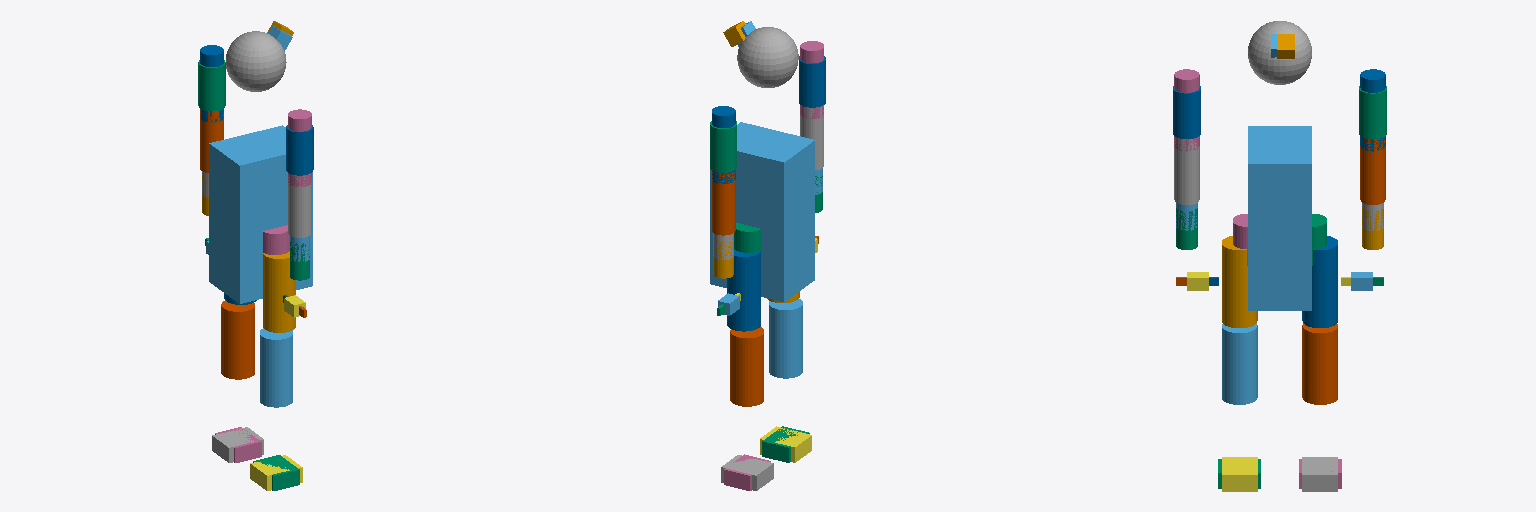
--- Render facts (derived) ---
Views: 3 orthographic renders of the robot side by side, from view 1: azimuth 30°, elevation 25°; view 2: azimuth 150°, elevation 25°; view 3: azimuth 270°, elevation 25°.
Robot: my_robot_description — 50 links, 49 joints (28 revolute, 4 prismatic, 17 fixed); root link dummy_link; default pose: every joint at zero.
Links seen in each view (by area): view 1: base_link, zhead_2_link, leg_l4_link, leg_r4_link, leg_r3_link, zarm_r4_link, zarm_l1_link, zarm_r1_link, leg_l6_link, zarm_l4_link, leg_r5_link, zarm_r3_link (+4 smaller); view 2: base_link, zhead_2_link, leg_r4_link, leg_l4_link, leg_l3_link, zarm_l4_link, zarm_l1_link, zarm_r1_link, leg_l6_link, zarm_r4_link, leg_r5_link, leg_r6_link (+4 smaller); view 3: base_link, leg_l4_link, leg_r4_link, zhead_2_link, leg_l3_link, leg_r3_link, zarm_r4_link, zarm_l4_link, zarm_l1_link, zarm_r1_link, leg_r6_link, leg_l6_link (+4 smaller).
Boxes of the visible links, left/top/right/bottom form: base_link: left=209, top=125, right=312, bottom=303; zhead_2_link: left=226, top=31, right=286, bottom=91; leg_l4_link: left=221, top=300, right=254, bottom=379; leg_r4_link: left=260, top=328, right=292, bottom=407; leg_r3_link: left=263, top=251, right=295, bottom=332; zarm_r4_link: left=288, top=174, right=311, bottom=237; zarm_l1_link: left=198, top=60, right=225, bottom=110; zarm_r1_link: left=286, top=125, right=313, bottom=175; leg_l6_link: left=212, top=427, right=263, bottom=462; zarm_l4_link: left=200, top=109, right=223, bottom=172; leg_r5_link: left=253, top=455, right=299, bottom=490; zarm_r3_link: left=288, top=109, right=311, bottom=186; base_link: left=710, top=122, right=814, bottom=302; zhead_2_link: left=737, top=27, right=798, bottom=87; leg_r4_link: left=769, top=299, right=802, bottom=378; leg_l4_link: left=730, top=327, right=763, bottom=406; leg_l3_link: left=727, top=249, right=760, bottom=331; zarm_l4_link: left=712, top=170, right=735, bottom=235; zarm_l1_link: left=710, top=121, right=736, bottom=172; zarm_r1_link: left=799, top=56, right=825, bottom=107; leg_l6_link: left=721, top=455, right=773, bottom=490; zarm_r4_link: left=800, top=105, right=823, bottom=169; leg_r5_link: left=762, top=426, right=809, bottom=462; leg_r6_link: left=760, top=426, right=811, bottom=462; base_link: left=1248, top=126, right=1311, bottom=310; leg_l4_link: left=1302, top=323, right=1337, bottom=404; leg_r4_link: left=1222, top=323, right=1257, bottom=404; zhead_2_link: left=1248, top=21, right=1311, bottom=84; leg_l3_link: left=1302, top=236, right=1337, bottom=327; leg_r3_link: left=1222, top=236, right=1257, bottom=327; zarm_r4_link: left=1174, top=137, right=1199, bottom=204; zarm_l4_link: left=1360, top=138, right=1385, bottom=204; zarm_l1_link: left=1359, top=86, right=1386, bottom=138; zarm_r1_link: left=1173, top=86, right=1200, bottom=138; leg_r6_link: left=1222, top=457, right=1257, bottom=491; leg_l6_link: left=1302, top=457, right=1337, bottom=491.
Bounding box of the posed robot: 0.25 × 0.5977 × 1.41 m (x, y, z).
Geometry: primitives only (box / cylinder / sphere), no mesh files.

The robot description file, URDF, robot "my_robot_description":
<?xml version='1.0' encoding='utf-8'?>
<robot name="my_robot_description">
  <mujoco>
    <compiler meshdir="../meshes/" balanceinertia="true" discardvisual="false" />
  </mujoco>
  <link name="dummy_link" />
  <link name="base_link">
    <inertial>
      <origin xyz="-0.00505 0.0014 0.18077" rpy="0 0 0" />
      <mass value="18.7919" />
      <inertia ixx="0.28214" ixy="3e-05" ixz="0.01114" iyy="0.20534" iyz="0.00044" izz="0.13735" />
    </inertial>
    <visual>
      <origin xyz="0 0 0" rpy="0 0 0" />
      <geometry>
                <box size="0.25 0.18 0.45" />
      </geometry>
    </visual>
  </link>
  <joint name="dummy_to_base_link" type="fixed">
    <origin xyz="0 0 0" rpy="0 0 0" />
    <parent link="dummy_link" />
    <child link="base_link" />
  </joint>
  <link name="leg_l1_link">
    <inertial>
      <origin xyz="-0.00624961 -5.6e-06 -0.00874166" rpy="0 0 0" />
      <mass value="1.79206533" />
      <inertia ixx="0.00211603" ixy="7.6e-07" ixz="0.000107" iyy="0.00302948" iyz="4.73e-06" izz="0.00399385" />
    </inertial>
    <visual>
      <origin xyz="0 0 0" rpy="0 0 0" />
      <geometry>
                <cylinder radius="0.045" length="0.12" />
      </geometry>
    </visual>
  </link>
  <joint name="leg_l1_joint" type="revolute">
    <origin xyz="-0.0025 0.087 -0.066" rpy="0 0 0" />
    <parent link="base_link" />
    <child link="leg_l1_link" />
    <axis xyz="1 0 0" />
    <limit lower="-0.314159265358979" upper="0.663225115757845" effort="180.0" velocity="23.55" />
  </joint>
  <link name="leg_l2_link">
    <inertial>
      <origin xyz="4.471e-05 0.04985881 -0.11682314" rpy="0 0 0" />
      <mass value="1.67630577" />
      <inertia ixx="0.00548763" ixy="-2.73e-06" ixz="-9.2e-07" iyy="0.0041542" iyz="0.00050833" izz="0.00426092" />
    </inertial>
    <visual>
      <origin xyz="0 0 0" rpy="0 0 0" />
      <geometry>
                <cylinder radius="0.045" length="0.12" />
      </geometry>
    </visual>
  </link>
  <joint name="leg_l2_joint" type="revolute">
    <origin xyz="0 0 0" rpy="0 0 0" />
    <parent link="leg_l1_link" />
    <child link="leg_l2_link" />
    <axis xyz="0 0 1" />
    <limit lower="-1.0471975511966" upper="0.523598775598299" effort="100.0" velocity="41.3433333333333" />
  </joint>
  <link name="leg_l3_link">
    <inertial>
      <origin xyz="-0.00238348 -0.02309435 -0.06304956" rpy="0 0 0" />
      <mass value="2.46847" />
      <inertia ixx="0.02435272" ixy="4.518e-05" ixz="0.00123822" iyy="0.02479772" iyz="0.00261624" izz="0.00478829" />
    </inertial>
    <visual>
      <origin xyz="0 0 0" rpy="0 0 0" />
      <geometry>
                <cylinder radius="0.05" length="0.24" />
      </geometry>
    </visual>
  </link>
  <joint name="leg_l3_joint" type="revolute">
    <origin xyz="0 0.02545000000000 -0.1287" rpy="0 0 0" />
    <parent link="leg_l2_link" />
    <child link="leg_l3_link" />
    <axis xyz="0 1 0" />
    <limit lower="-1.83259571459405" upper="1.0471975511966" effort="100.0" velocity="41.3433333333333" />
  </joint>
  <link name="leg_l4_link">
    <inertial>
      <origin xyz="0.00304104 -4.1e-05 -0.12213928" rpy="0 0 0" />
      <mass value="1.86452506" />
      <inertia ixx="0.01537791" ixy="7.85e-06" ixz="-0.00010781" iyy="0.01559985" iyz="-0.00015323" izz="0.00123021" />
    </inertial>
    <visual>
      <origin xyz="0 0 0" rpy="0 0 0" />
      <geometry>
                <cylinder radius="0.05" length="0.22" />
      </geometry>
    </visual>
  </link>
  <joint name="leg_l4_joint" type="revolute">
    <origin xyz="-0.010390161952608 0 -0.249783995753446" rpy="0 0 0" />
    <parent link="leg_l3_link" />
    <child link="leg_l4_link" />
    <axis xyz="0 1 0" />
    <limit lower="0.0" upper="2.18166156499291" effort="100.0" velocity="41.3433333333333" />
  </joint>
  <link name="leg_l5_link">
    <inertial>
      <origin xyz="0.0 0.0 0.0" rpy="0 0 0" />
      <mass value="0.06923929" />
      <inertia ixx="6.66e-06" ixy="0.0" ixz="0.0" iyy="6.66e-06" iyz="0.0" izz="1.172e-05" />
    </inertial>
    <visual>
      <origin xyz="0 0 0" rpy="0 0 0" />
      <geometry>
                <box size="0.09 0.12 0.05" />
      </geometry>
    </visual>
  </link>
  <joint name="leg_l5_joint" type="revolute">
    <origin xyz="0 0 -0.346000000000004" rpy="0 0 0" />
    <parent link="leg_l4_link" />
    <child link="leg_l5_link" />
    <axis xyz="0 1 0" />
    <limit lower="-0.610865238198015" upper="0.523598775598299" effort="36.0" velocity="23.0266666666667" />
  </joint>
  <link name="leg_l6_link">
    <inertial>
      <origin xyz="-0.00987056 -7.58e-06 -0.03365514" rpy="0 0 0" />
      <mass value="0.58358325" />
      <inertia ixx="0.0006342" ixy="1.4e-07" ixz="0.00031564" iyy="0.00227317" iyz="-2e-08" izz="0.00239382" />
    </inertial>
    <visual>
      <origin xyz="0 0 0" rpy="0 0 0" />
      <geometry>
                <box size="0.12 0.1 0.05" />
      </geometry>
    </visual>
  </link>
  <joint name="leg_l6_joint" type="revolute">
    <origin xyz="0 0 0" rpy="0 0 0" />
    <parent link="leg_l5_link" />
    <child link="leg_l6_link" />
    <axis xyz="1 0 0" />
    <limit lower="-0.349065850398866" upper="0.349065850398866" effort="36.0" velocity="23.0266666666667" />
  </joint>
  <link name="ll_foot_toe">
    <collision>
      <origin rpy="0 0 0" xyz="0 0 0" />
      <geometry>
        <sphere radius="0.005" />
      </geometry>
    </collision>
  </link>
  <joint name="ll_foot_toe_joint" type="fixed">
    <origin xyz="0.142507 0.04773 -0.0595" rpy="0 0 0" />
    <parent link="leg_l6_link" />
    <child link="ll_foot_toe" />
  </joint>
  <link name="ll_foot_heel">
    <collision>
      <origin rpy="0 0 0" xyz="0 0 0" />
      <geometry>
        <sphere radius="0.005" />
      </geometry>
    </collision>
  </link>
  <joint name="ll_foot_heel_joint" type="fixed">
    <origin xyz="-0.10149 0.04773 -0.0595" rpy="0 0 0" />
    <parent link="leg_l6_link" />
    <child link="ll_foot_heel" />
  </joint>
  <link name="lr_foot_toe">
    <collision>
      <origin rpy="0 0 0" xyz="0 0 0" />
      <geometry>
        <sphere radius="0.005" />
      </geometry>
    </collision>
  </link>
  <joint name="lr_foot_toe_joint" type="fixed">
    <origin xyz="0.142507 -0.04773 -0.0595" rpy="0 0 0" />
    <parent link="leg_l6_link" />
    <child link="lr_foot_toe" />
  </joint>
  <link name="lr_foot_heel">
    <collision>
      <origin rpy="0 0 0" xyz="0 0 0" />
      <geometry>
        <sphere radius="0.005" />
      </geometry>
    </collision>
  </link>
  <joint name="lr_foot_heel_joint" type="fixed">
    <origin xyz="-0.10149 -0.04773 -0.0595" rpy="0 0 0" />
    <parent link="leg_l6_link" />
    <child link="lr_foot_heel" />
  </joint>
  <link name="l_foot_toe">
    <collision>
      <origin rpy="0 0 0" xyz="0 0 0" />
      <geometry>
        <sphere radius="0.005" />
      </geometry>
    </collision>
  </link>
  <joint name="l_foot_toe_joint" type="fixed">
    <origin xyz="0.142507 0.0 -0.0595" rpy="0 0 0" />
    <parent link="leg_l6_link" />
    <child link="l_foot_toe" />
  </joint>
  <link name="l_foot_heel">
    <collision>
      <origin rpy="0 0 0" xyz="0 0 0" />
      <geometry>
        <sphere radius="0.005" />
      </geometry>
    </collision>
  </link>
  <joint name="l_foot_heel_joint" type="fixed">
    <origin xyz="-0.10149 0.0 -0.0595" rpy="0 0 0" />
    <parent link="leg_l6_link" />
    <child link="l_foot_heel" />
  </joint>
  <link name="leg_r1_link">
    <inertial>
      <origin xyz="-0.00624961 5.65e-06 -0.00874165" rpy="0 0 0" />
      <mass value="1.79206572" />
      <inertia ixx="0.00211603" ixy="-7.6e-07" ixz="0.000107" iyy="0.00302948" iyz="-4.73e-06" izz="0.00399385" />
    </inertial>
    <visual>
      <origin xyz="0 0 0" rpy="0 0 0" />
      <geometry>
                <cylinder radius="0.045" length="0.12" />
      </geometry>
    </visual>
  </link>
  <joint name="leg_r1_joint" type="revolute">
    <origin xyz="-0.0025 -0.087 -0.066" rpy="0 0 0" />
    <parent link="base_link" />
    <child link="leg_r1_link" />
    <axis xyz="1 0 0" />
    <limit lower="-0.663225115757845" upper="0.314159265358979" effort="180.0" velocity="23.55" />
  </joint>
  <link name="leg_r2_link">
    <inertial>
      <origin xyz="4.471e-05 -0.04985878 -0.11682313" rpy="0 0 0" />
      <mass value="1.67630636" />
      <inertia ixx="0.00548764" ixy="2.73e-06" ixz="-9.2e-07" iyy="0.00415421" iyz="-0.00050832" izz="0.00426093" />
    </inertial>
    <visual>
      <origin xyz="0 0 0" rpy="0 0 0" />
      <geometry>
                <cylinder radius="0.045" length="0.12" />
      </geometry>
    </visual>
  </link>
  <joint name="leg_r2_joint" type="revolute">
    <origin xyz="0 0 0" rpy="0 0 0" />
    <parent link="leg_r1_link" />
    <child link="leg_r2_link" />
    <axis xyz="0 0 1" />
    <limit lower="-0.523598775598299" upper="1.0471975511966" effort="100.0" velocity="41.3433333333333" />
  </joint>
  <link name="leg_r3_link">
    <inertial>
      <origin xyz="-0.00238153 0.02309009 -0.06305853" rpy="0 0 0" />
      <mass value="2.46916674" />
      <inertia ixx="0.02435155" ixy="-4.518e-05" ixz="0.00123747" iyy="0.02479853" iyz="-0.00261573" izz="0.0047908" />
    </inertial>
    <visual>
      <origin xyz="0 0 0" rpy="0 0 0" />
      <geometry>
                <cylinder radius="0.05" length="0.24" />
      </geometry>
    </visual>
  </link>
  <joint name="leg_r3_joint" type="revolute">
    <origin xyz="0 -0.02545000000000 -0.1287" rpy="0 0 0" />
    <parent link="leg_r2_link" />
    <child link="leg_r3_link" />
    <axis xyz="0 1 0" />
    <limit lower="-1.83259571459405" upper="1.0471975511966" effort="100.0" velocity="41.3433333333333" />
  </joint>
  <link name="leg_r4_link">
    <inertial>
      <origin xyz="0.00304109 4.102e-05 -0.12213983" rpy="0 0 0" />
      <mass value="1.86454133" />
      <inertia ixx="0.01537809" ixy="-7.85e-06" ixz="-0.00010779" iyy="0.01560001" iyz="0.00015322" izz="0.00123022" />
    </inertial>
    <visual>
      <origin xyz="0 0 0" rpy="0 0 0" />
      <geometry>
                <cylinder radius="0.05" length="0.22" />
      </geometry>
    </visual>
  </link>
  <joint name="leg_r4_joint" type="revolute">
    <origin xyz="-0.0103901619526017 0 -0.249783995753447" rpy="0 0 0" />
    <parent link="leg_r3_link" />
    <child link="leg_r4_link" />
    <axis xyz="0 1 0" />
    <limit lower="0.0" upper="2.18166156499291" effort="100.0" velocity="41.3433333333333" />
  </joint>
  <link name="leg_r5_link">
    <inertial>
      <origin xyz="0.0 0.0 0.0" rpy="0 0 0" />
      <mass value="0.06923929" />
      <inertia ixx="6.66e-06" ixy="0.0" ixz="0.0" iyy="6.66e-06" iyz="0.0" izz="1.172e-05" />
    </inertial>
    <visual>
      <origin xyz="0 0 0" rpy="0 0 0" />
      <geometry>
                <box size="0.09 0.12 0.05" />
      </geometry>
    </visual>
  </link>
  <joint name="leg_r5_joint" type="revolute">
    <origin xyz="0 0 -0.346000000000011" rpy="0 0 0" />
    <parent link="leg_r4_link" />
    <child link="leg_r5_link" />
    <axis xyz="0 1 0" />
    <limit lower="-0.523598775598299" upper="0.523598775598299" effort="36.0" velocity="23.0266666666667" />
  </joint>
  <link name="leg_r6_link">
    <inertial>
      <origin xyz="-0.00987049 7.65e-06 -0.03365512" rpy="0 0 0" />
      <mass value="0.58358273" />
      <inertia ixx="0.0006342" ixy="-1.4e-07" ixz="0.00031564" iyy="0.00227317" iyz="2e-08" izz="0.00239382" />
    </inertial>
    <visual>
      <origin xyz="0 0 0" rpy="0 0 0" />
      <geometry>
                <box size="0.12 0.1 0.05" />
      </geometry>
    </visual>
  </link>
  <joint name="leg_r6_joint" type="revolute">
    <origin xyz="0 0 0" rpy="0 0 0" />
    <parent link="leg_r5_link" />
    <child link="leg_r6_link" />
    <axis xyz="1 0 0" />
    <limit lower="-0.349065850398866" upper="0.349065850398866" effort="36.0" velocity="23.0266666666667" />
  </joint>
  <link name="rl_foot_toe">
    <collision>
      <origin rpy="0 0 0" xyz="0 0 0" />
      <geometry>
        <sphere radius="0.005" />
      </geometry>
    </collision>
  </link>
  <joint name="rl_foot_toe_joint" type="fixed">
    <origin xyz="0.142507 0.04773 -0.0595" rpy="0 0 0" />
    <parent link="leg_r6_link" />
    <child link="rl_foot_toe" />
  </joint>
  <link name="rl_foot_heel">
    <collision>
      <origin rpy="0 0 0" xyz="0 0 0" />
      <geometry>
        <sphere radius="0.005" />
      </geometry>
    </collision>
  </link>
  <joint name="rl_foot_heel_joint" type="fixed">
    <origin xyz="-0.10149 0.04773 -0.0595" rpy="0 0 0" />
    <parent link="leg_r6_link" />
    <child link="rl_foot_heel" />
  </joint>
  <link name="rr_foot_toe">
    <collision>
      <origin rpy="0 0 0" xyz="0 0 0" />
      <geometry>
        <sphere radius="0.005" />
      </geometry>
    </collision>
  </link>
  <joint name="rr_foot_toe_joint" type="fixed">
    <origin xyz="0.142507 -0.04773 -0.0595" rpy="0 0 0" />
    <parent link="leg_r6_link" />
    <child link="rr_foot_toe" />
  </joint>
  <link name="rr_foot_heel">
    <collision>
      <origin rpy="0 0 0" xyz="0 0 0" />
      <geometry>
        <sphere radius="0.005" />
      </geometry>
    </collision>
  </link>
  <joint name="rr_foot_heel_joint" type="fixed">
    <origin xyz="-0.10149 -0.04773 -0.0595" rpy="0 0 0" />
    <parent link="leg_r6_link" />
    <child link="rr_foot_heel" />
  </joint>
  <link name="r_foot_toe">
    <collision>
      <origin rpy="0 0 0" xyz="0 0 0" />
      <geometry>
        <sphere radius="0.005" />
      </geometry>
    </collision>
  </link>
  <joint name="r_foot_toe_joint" type="fixed">
    <origin xyz="0.142507 0.0 -0.0595" rpy="0 0 0" />
    <parent link="leg_r6_link" />
    <child link="r_foot_toe" />
  </joint>
  <link name="r_foot_heel">
    <collision>
      <origin rpy="0 0 0" xyz="0 0 0" />
      <geometry>
        <sphere radius="0.005" />
      </geometry>
    </collision>
  </link>
  <joint name="r_foot_heel_joint" type="fixed">
    <origin xyz="-0.10149 0.0 -0.0595" rpy="0 0 0" />
    <parent link="leg_r6_link" />
    <child link="r_foot_heel" />
  </joint>
  <link name="zarm_l1_link">
    <inertial>
      <origin xyz="0.008 -0.00158 0.0036" rpy="0 0 0" />
      <mass value="1.15" />
      <inertia ixx="0.0006" ixy="5e-05" ixz="1e-05" iyy="0.00048" iyz="-6e-05" izz="0.0007" />
    </inertial>
    <visual>
      <origin xyz="0 0 0" rpy="0 0 0" />
      <geometry>
                <cylinder radius="0.04" length="0.14" />
      </geometry>
    </visual>
  </link>
  <joint name="zarm_l1_joint" type="revolute">
    <origin xyz="-0.0175 0.25886 0.3245" rpy="0 0 0" />
    <parent link="base_link" />
    <child link="zarm_l1_link" />
    <axis xyz="0 1 0" />
    <limit lower="-2.61799387799149" upper="0.523598775598299" effort="100.0" velocity="41.3433333333333" />
  </joint>
  <link name="zarm_l2_link">
    <inertial>
      <origin xyz="0.00144 0.02159 -0.0202" rpy="0 0 0" />
      <mass value="0.226" />
      <inertia ixx="0.0003" ixy="3e-05" ixz="1e-05" iyy="0.00061" iyz="5e-05" izz="0.00057" />
    </inertial>
    <visual>
      <origin xyz="0 0 0" rpy="0 0 0" />
      <geometry>
                <cylinder radius="0.035" length="0.14" />
      </geometry>
    </visual>
  </link>
  <joint name="zarm_l2_joint" type="revolute">
    <origin xyz="0 0 0" rpy="0 0 0" />
    <parent link="zarm_l1_link" />
    <child link="zarm_l2_link" />
    <axis xyz="1 0 0" />
    <limit lower="-0.349065850398866" upper="2.0943951023932" effort="50.0" velocity="19.154" />
  </joint>
  <link name="zarm_l3_link">
    <inertial>
      <origin xyz="-0.00157 -3e-05 -0.13318" rpy="0 0 0" />
      <mass value="1.166" />
      <inertia ixx="0.00245" ixy="-1e-05" ixz="-1e-05" iyy="0.0022" iyz="0.0" izz="0.00112" />
    </inertial>
    <visual>
      <origin xyz="0 0 0" rpy="0 0 0" />
      <geometry>
                <cylinder radius="0.035" length="0.22" />
      </geometry>
    </visual>
  </link>
  <joint name="zarm_l3_joint" type="revolute">
    <origin xyz="0 0 0" rpy="0 0 0" />
    <parent link="zarm_l2_link" />
    <child link="zarm_l3_link" />
    <axis xyz="0 0 1" />
    <limit lower="-1.5707963267949" upper="1.5707963267949" effort="20.0" velocity="18.84" />
  </joint>
  <link name="zarm_l4_link">
    <inertial>
      <origin xyz="-4e-05 0.0098 -0.05283" rpy="0 0 0" />
      <mass value="0.575" />
      <inertia ixx="0.00098" ixy="0.0" ixz="0.0" iyy="0.00062" iyz="-0.00016" izz="0.00088" />
    </inertial>
    <visual>
      <origin xyz="0 0 0" rpy="0 0 0" />
      <geometry>
                <cylinder radius="0.035" length="0.22" />
      </geometry>
    </visual>
  </link>
  <joint name="zarm_l4_joint" type="revolute">
    <origin xyz="0 0 -0.1646" rpy="0 0 0" />
    <parent link="zarm_l3_link" />
    <child link="zarm_l4_link" />
    <axis xyz="0 1 0" />
    <limit lower="-1.5707963267949" upper="0.0" effort="20.0" velocity="18.84" />
  </joint>
  <link name="zarm_l5_link">
    <inertial>
      <origin xyz="-0.00011 0.00421 -0.11168" rpy="0 0 0" />
      <mass value="0.46" />
      <inertia ixx="0.00077" ixy="0.0" ixz="0.0" iyy="0.0005" iyz="-4e-05" izz="0.00063" />
    </inertial>
    <visual>
      <origin xyz="0 0 0" rpy="0 0 0" />
      <geometry>
                <cylinder radius="0.03" length="0.14" />
      </geometry>
    </visual>
  </link>
  <joint name="zarm_l5_joint" type="revolute">
    <origin xyz="0 0 0" rpy="0 0 0" />
    <parent link="zarm_l4_link" />
    <child link="zarm_l5_link" />
    <axis xyz="0 0 1" />
    <limit lower="-1.5707963267949" upper="1.5707963267949" effort="6.0" velocity="21.666" />
  </joint>
  <link name="zarm_l6_link">
    <inertial>
      <origin xyz="0.00253 0.00382 -0.05356" rpy="0 0 0" />
      <mass value="0.35" />
      <inertia ixx="0.00023" ixy="0.0" ixz="0.0" iyy="0.00024" iyz="-4e-05" izz="0.00019" />
    </inertial>
    <visual>
      <origin xyz="0 0 0" rpy="0 0 0" />
      <geometry>
                <cylinder radius="0.03" length="0.12" />
      </geometry>
    </visual>
  </link>
  <joint name="zarm_l6_joint" type="revolute">
    <origin xyz="0 0 -0.132050000125748" rpy="0 0 0" />
    <parent link="zarm_l5_link" />
    <child link="zarm_l6_link" />
    <axis xyz="0 1 0" />
    <limit lower="-1.5707963267949" upper="1.5707963267949" effort="6.0" velocity="21.666" />
  </joint>
  <link name="zarm_l7_link">
    <inertial>
      <origin xyz="0.00267 0.00748 -0.07162" rpy="0 0 0" />
      <mass value="0.81" />
      <inertia ixx="0.00117" ixy="2e-05" ixz="0.0" iyy="0.00128" iyz="-2e-05" izz="0.00036" />
    </inertial>
    <visual>
      <origin xyz="0 0 0" rpy="0 0 0" />
      <geometry>
                <cylinder radius="0.03" length="0.12" />
      </geometry>
    </visual>
  </link>
  <joint name="zarm_l7_joint" type="revolute">
    <origin xyz="0 0 -0.0589999999999999" rpy="0 0 0" />
    <parent link="zarm_l6_link" />
    <child link="zarm_l7_link" />
    <axis xyz="1 0 0" />
    <limit lower="-1.5707963267949" upper="1.5707963267949" effort="6.0" velocity="21.666" />
  </joint>
  <link name="zarm_l7_end_effector">
    <inertial>
      <origin xyz="0 0 0" rpy="0 0 0" />
      <mass value="0.05" />
      <inertia ixx="1e-05" ixy="0" ixz="0" iyy="1e-05" iyz="0" izz="1e-05" />
    </inertial>
    <visual>
      <origin rpy="0 0 0" xyz="0 0 0" />
      <geometry>
        <box size="0.04 0.06 0.04" />
      </geometry>
    </visual>
    <collision>
      <origin rpy="0 0 0" xyz="0 0 0" />
      <geometry>
        <box size="0.04 0.06 0.04" />
      </geometry>
    </collision>
  </link>
  <joint name="zarm_l7_end_effector_joint" type="fixed">
    <origin xyz="0 -0.03 -0.17" rpy="0 0 0" />
    <parent link="zarm_l7_link" />
    <child link="zarm_l7_end_effector" />
  </joint>
  <link name="zarm_l_gripper_finger_left">
    <inertial>
      <origin xyz="0 0 0" rpy="0 0 0" />
      <mass value="0.01" />
      <inertia ixx="5e-06" ixy="0" ixz="0" iyy="5e-06" iyz="0" izz="5e-06" />
    </inertial>
    <visual>
      <origin xyz="0 0.03 0" rpy="0 0 0" />
      <geometry>
        <box size="0.01 0.06 0.025" />
      </geometry>
    </visual>
    <collision>
      <origin xyz="0 0.03 0" rpy="0 0 0" />
      <geometry>
        <box size="0.01 0.06 0.025" />
      </geometry>
    </collision>
  </link>
  <joint name="zarm_l_gripper_finger_left_joint" type="prismatic">
    <origin xyz="0 0 0" rpy="0 0 0" />
    <parent link="zarm_l7_end_effector" />
    <child link="zarm_l_gripper_finger_left" />
    <axis xyz="0 1 0" />
    <limit lower="0" upper="0.035" effort="5" velocity="0.5" />
  </joint>
  <link name="zarm_l_gripper_finger_right">
    <inertial>
      <origin xyz="0 0 0" rpy="0 0 0" />
      <mass value="0.01" />
      <inertia ixx="5e-06" ixy="0" ixz="0" iyy="5e-06" iyz="0" izz="5e-06" />
    </inertial>
    <visual>
      <origin xyz="0 -0.03 0" rpy="0 0 0" />
      <geometry>
        <box size="0.01 0.06 0.025" />
      </geometry>
    </visual>
    <collision>
      <origin xyz="0 -0.03 0" rpy="0 0 0" />
      <geometry>
        <box size="0.01 0.06 0.025" />
      </geometry>
    </collision>
  </link>
  <joint name="zarm_l_gripper_finger_right_joint" type="prismatic">
    <origin xyz="0 0 0" rpy="0 0 0" />
    <parent link="zarm_l7_end_effector" />
    <child link="zarm_l_gripper_finger_right" />
    <axis xyz="0 -1 0" />
    <limit lower="-0.035" upper="0" effort="5" velocity="0.5" />
    <mimic joint="zarm_l_gripper_finger_left_joint" multiplier="-1" offset="0" />
  </joint>
  <link name="zarm_r1_link">
    <inertial>
      <origin xyz="0.008 0.00158 -0.0036" rpy="0 0 0" />
      <mass value="1.15" />
      <inertia ixx="0.0006" ixy="-5e-05" ixz="-1e-05" iyy="0.00048" iyz="-6e-05" izz="0.0007" />
    </inertial>
    <visual>
      <origin xyz="0 0 0" rpy="0 0 0" />
      <geometry>
                <cylinder radius="0.04" length="0.14" />
      </geometry>
    </visual>
  </link>
  <joint name="zarm_r1_joint" type="revolute">
    <origin xyz="-0.0175 -0.25886 0.3245" rpy="0 0 0" />
    <parent link="base_link" />
    <child link="zarm_r1_link" />
    <axis xyz="0 1 0" />
    <limit lower="-2.61799387799149" upper="0.523598775598299" effort="100.0" velocity="41.3433333333333" />
  </joint>
  <link name="zarm_r2_link">
    <inertial>
      <origin xyz="0.00144 -0.02159 -0.02021" rpy="0 0 0" />
      <mass value="0.226" />
      <inertia ixx="0.0003" ixy="-3e-05" ixz="1e-05" iyy="0.00061" iyz="-5e-05" izz="0.00057" />
    </inertial>
    <visual>
      <origin xyz="0 0 0" rpy="0 0 0" />
      <geometry>
                <cylinder radius="0.035" length="0.14" />
      </geometry>
    </visual>
  </link>
  <joint name="zarm_r2_joint" type="revolute">
    <origin xyz="0 0 0" rpy="0 0 0" />
    <parent link="zarm_r1_link" />
    <child link="zarm_r2_link" />
    <axis xyz="1 0 0" />
    <limit lower="-2.0943951023932" upper="0.349065850398866" effort="50.0" velocity="19.154" />
  </joint>
  <link name="zarm_r3_link">
    <inertial>
      <origin xyz="-0.00157 3e-05 -0.13318" rpy="0 0 0" />
      <mass value="1.166" />
      <inertia ixx="0.00245" ixy="1e-05" ixz="-1e-05" iyy="0.0022" iyz="0.0" izz="0.00112" />
    </inertial>
    <visual>
      <origin xyz="0 0 0" rpy="0 0 0" />
      <geometry>
                <cylinder radius="0.035" length="0.22" />
      </geometry>
    </visual>
  </link>
  <joint name="zarm_r3_joint" type="revolute">
    <origin xyz="0 0 0" rpy="0 0 0" />
    <parent link="zarm_r2_link" />
    <child link="zarm_r3_link" />
    <axis xyz="0 0 1" />
    <limit lower="-1.5707963267949" upper="1.5707963267949" effort="20.0" velocity="18.84" />
  </joint>
  <link name="zarm_r4_link">
    <inertial>
      <origin xyz="-4e-05 -0.0098 -0.05283" rpy="0 0 0" />
      <mass value="0.575" />
      <inertia ixx="0.00098" ixy="0.0" ixz="0.0" iyy="0.00062" iyz="0.00016" izz="0.00088" />
    </inertial>
    <visual>
      <origin xyz="0 0 0" rpy="0 0 0" />
      <geometry>
                <cylinder radius="0.035" length="0.22" />
      </geometry>
    </visual>
  </link>
  <joint name="zarm_r4_joint" type="revolute">
    <origin xyz="0 0 -0.1646" rpy="0 0 0" />
    <parent link="zarm_r3_link" />
    <child link="zarm_r4_link" />
    <axis xyz="0 1 0" />
    <limit lower="-1.5707963267949" upper="0.0" effort="20.0" velocity="18.84" />
  </joint>
  <link name="zarm_r5_link">
    <inertial>
      <origin xyz="-0.00011 -0.00421 -0.11168" rpy="0 0 0" />
      <mass value="0.46" />
      <inertia ixx="0.00077" ixy="0.0" ixz="0.0" iyy="0.0005" iyz="4e-05" izz="0.00063" />
    </inertial>
    <visual>
      <origin xyz="0 0 0" rpy="0 0 0" />
      <geometry>
                <cylinder radius="0.03" length="0.14" />
      </geometry>
    </visual>
  </link>
  <joint name="zarm_r5_joint" type="revolute">
    <origin xyz="0 0 0" rpy="0 0 0" />
    <parent link="zarm_r4_link" />
    <child link="zarm_r5_link" />
    <axis xyz="0 0 1" />
    <limit lower="-1.5707963267949" upper="1.5707963267949" effort="6.0" velocity="21.666" />
  </joint>
  <link name="zarm_r6_link">
    <inertial>
      <origin xyz="0.00253 -0.00382 -0.05356" rpy="0 0 0" />
      <mass value="0.35" />
      <inertia ixx="0.00023" ixy="0.0" ixz="0.0" iyy="0.00024" iyz="4e-05" izz="0.00019" />
    </inertial>
    <visual>
      <origin xyz="0 0 0" rpy="0 0 0" />
      <geometry>
                <cylinder radius="0.03" length="0.12" />
      </geometry>
    </visual>
  </link>
  <joint name="zarm_r6_joint" type="revolute">
    <origin xyz="0 0 -0.132050000240097" rpy="0 0 0" />
    <parent link="zarm_r5_link" />
    <child link="zarm_r6_link" />
    <axis xyz="0 1 0" />
    <limit lower="-1.5707963267949" upper="1.5707963267949" effort="6.0" velocity="21.666" />
  </joint>
  <link name="zarm_r7_link">
    <inertial>
      <origin xyz="0.00267 -0.00748 -0.07162" rpy="0 0 0" />
      <mass value="0.81" />
      <inertia ixx="0.00098" ixy="-1e-05" ixz="1e-05" iyy="0.00104" iyz="1e-05" izz="0.00027" />
    </inertial>
    <visual>
      <origin xyz="0 0 0" rpy="0 0 0" />
      <geometry>
                <cylinder radius="0.03" length="0.12" />
      </geometry>
    </visual>
  </link>
  <joint name="zarm_r7_joint" type="revolute">
    <origin xyz="0 0 -0.0589999999999999" rpy="0 0 0" />
    <parent link="zarm_r6_link" />
    <child link="zarm_r7_link" />
    <axis xyz="1 0 0" />
    <limit lower="-1.5707963267949" upper="1.5707963267949" effort="6.0" velocity="21.666" />
  </joint>
  <link name="zarm_r7_end_effector">
    <inertial>
      <origin xyz="0 0 0" rpy="0 0 0" />
      <mass value="0.05" />
      <inertia ixx="1e-05" ixy="0" ixz="0" iyy="1e-05" iyz="0" izz="1e-05" />
    </inertial>
    <visual>
      <origin rpy="0 0 0" xyz="0 0 0" />
      <geometry>
        <box size="0.04 0.06 0.04" />
      </geometry>
    </visual>
    <collision>
      <origin rpy="0 0 0" xyz="0 0 0" />
      <geometry>
        <box size="0.04 0.06 0.04" />
      </geometry>
    </collision>
  </link>
  <joint name="zarm_r7_end_effector_joint" type="fixed">
    <origin xyz="0 0.03 -0.17" rpy="0 0 0" />
    <parent link="zarm_r7_link" />
    <child link="zarm_r7_end_effector" />
  </joint>
  <link name="zarm_r_gripper_finger_left">
    <inertial>
      <origin xyz="0 0 0" rpy="0 0 0" />
      <mass value="0.01" />
      <inertia ixx="5e-06" ixy="0" ixz="0" iyy="5e-06" iyz="0" izz="5e-06" />
    </inertial>
    <visual>
      <origin xyz="0 0.03 0" rpy="0 0 0" />
      <geometry>
        <box size="0.01 0.06 0.025" />
      </geometry>
    </visual>
    <collision>
      <origin xyz="0 0.03 0" rpy="0 0 0" />
      <geometry>
        <box size="0.01 0.06 0.025" />
      </geometry>
    </collision>
  </link>
  <joint name="zarm_r_gripper_finger_left_joint" type="prismatic">
    <origin xyz="0 0 0" rpy="0 0 0" />
    <parent link="zarm_r7_end_effector" />
    <child link="zarm_r_gripper_finger_left" />
    <axis xyz="0 1 0" />
    <limit lower="0" upper="0.035" effort="5" velocity="0.5" />
  </joint>
  <link name="zarm_r_gripper_finger_right">
    <inertial>
      <origin xyz="0 0 0" rpy="0 0 0" />
      <mass value="0.01" />
      <inertia ixx="5e-06" ixy="0" ixz="0" iyy="5e-06" iyz="0" izz="5e-06" />
    </inertial>
    <visual>
      <origin xyz="0 -0.03 0" rpy="0 0 0" />
      <geometry>
        <box size="0.01 0.06 0.025" />
      </geometry>
    </visual>
    <collision>
      <origin xyz="0 -0.03 0" rpy="0 0 0" />
      <geometry>
        <box size="0.01 0.06 0.025" />
      </geometry>
    </collision>
  </link>
  <joint name="zarm_r_gripper_finger_right_joint" type="prismatic">
    <origin xyz="0 0 0" rpy="0 0 0" />
    <parent link="zarm_r7_end_effector" />
    <child link="zarm_r_gripper_finger_right" />
    <axis xyz="0 -1 0" />
    <limit lower="-0.035" upper="0" effort="5" velocity="0.5" />
    <mimic joint="zarm_r_gripper_finger_left_joint" multiplier="-1" offset="0" />
  </joint>
  <link name="zhead_1_link">
    <inertial>
      <origin xyz="0.0 0.01245 -0.02982" rpy="0 0 0" />
      <mass value="0.082" />
      <inertia ixx="7e-05" ixy="0.0" ixz="0.0" iyy="6e-05" iyz="-2e-05" izz="8e-05" />
    </inertial>
    <visual>
      <origin xyz="0 0 0" rpy="0 0 0" />
      <geometry>
                <cylinder radius="0.06" length="0.08" />
      </geometry>
    </visual>
  </link>
  <joint name="zhead_1_joint" type="revolute">
    <origin xyz="-0.0175 0.0 0.5014" rpy="0 0 0" />
    <parent link="base_link" />
    <child link="zhead_1_link" />
    <axis xyz="0 0 1" />
    <limit lower="-1.5707963267949" upper="1.5707963267949" effort="1.5" velocity="5.23333333333333" />
  </joint>
  <link name="zhead_2_link">
    <inertial>
      <origin xyz="0.01106 0.00069 0.0586" rpy="0 0 0" />
      <mass value="1.379" />
      <inertia ixx="0.003" ixy="1e-05" ixz="0.0003" iyy="0.00301" iyz="5e-05" izz="0.00281" />
    </inertial>
    <visual>
      <origin xyz="0 0 0" rpy="0 0 0" />
      <geometry>
                <sphere radius="0.09" />
      </geometry>
    </visual>
  </link>
  <joint name="zhead_2_joint" type="revolute">
    <origin xyz="0 0 0" rpy="0 0 0" />
    <parent link="zhead_1_link" />
    <child link="zhead_2_link" />
    <axis xyz="0 1 0" />
    <limit lower="-0.523598775598299" upper="0.523598775598299" effort="6.0" velocity="9.734" />
  </joint>
  <link name="camera">
    <inertial>
      <origin xyz="-0.04336 -0.01736 -0.01161" rpy="0 0 0" />
      <mass value="0.047" />
      <inertia ixx="0.00065" ixy="0.0" ixz="0.00015" iyy="0.00091" iyz="0.0" izz="0.00105" />
    </inertial>
    <visual>
      <origin xyz="0 0 0" rpy="0 0 0" />
      <geometry>
                <box size="0.05 0.05 0.05" />
      </geometry>
    </visual>
  </link>
  <joint name="camera" type="fixed">
    <origin xyz="0.0919101155958193 0.0175000000022731 0.0617838754768194" rpy="0 0.610865238198013 0" />
    <parent link="zhead_2_link" />
    <child link="camera" />
  </joint>

  <link
    name="camera_base">
    <inertial>
      <origin
        xyz="0.00354055612698423 0.00140393663616134 0.0124511788327371"
        rpy="0 0 0" />
      <mass
        value="0.0170255961584929" />
      <inertia
        ixx="1.09182620877589E-05"
        ixy="1.05354237503678E-07"
        ixz="1.05871360812799E-08"
        iyy="8.57178923448405E-07"
        iyz="1.6401848102306E-08"
        izz="1.02869873531782E-05" />
    </inertial>
    <visual>
      <origin
        xyz="0 0 0"
        rpy="0 0 0" />
      <geometry>
                <box size="0.05 0.05 0.05" />
      </geometry>
    </visual>
    <collision>
      <origin
        xyz="0 0 0"
        rpy="0 0 0" />
      <geometry>
        <cylinder radius="0.03" length="0.15" />
      </geometry>
    </collision>
  </link>
  <joint
    name="camera_base"
    type="fixed">
    <origin
      xyz="0.0766792844154498 0 0.0571889355165869"
      rpy="0 0.610865238198013 0" />
    <parent
      link="zhead_2_link" />
    <child
      link="camera_base" />
  </joint>
  
</robot>
